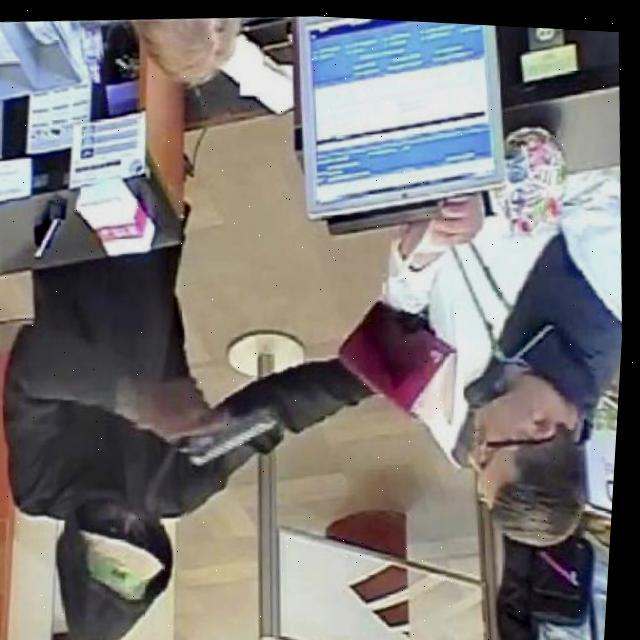gun: (166, 352, 289, 476)
